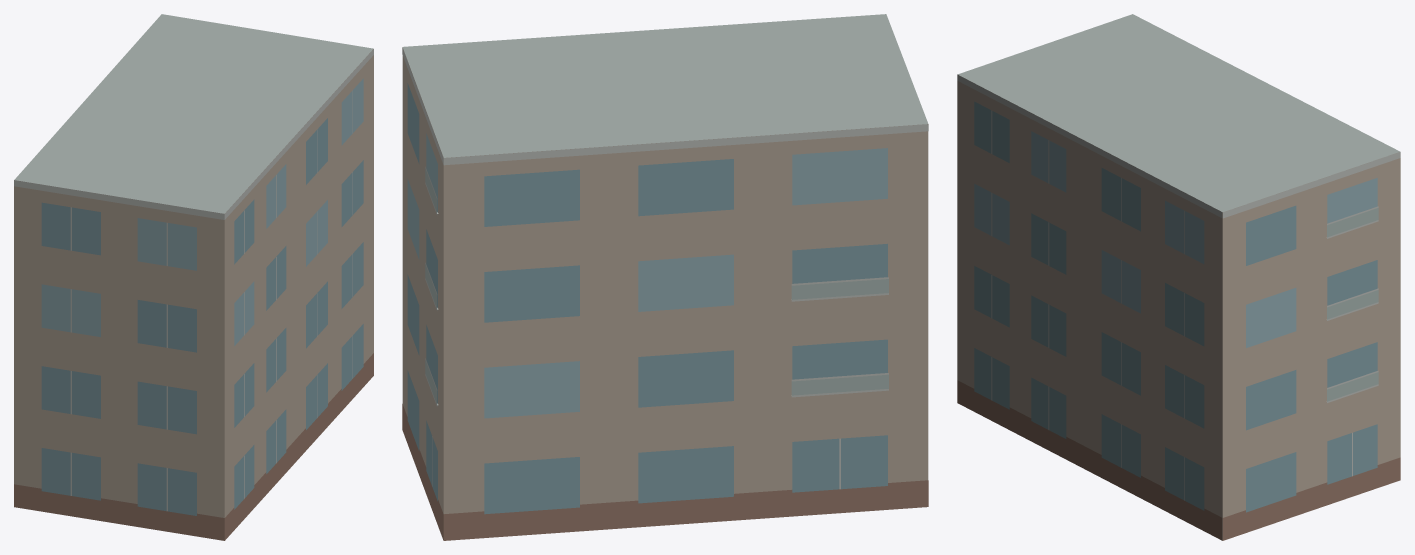
Rendered from survey-upis-32741719.glb.
3 renders of one model, left to right at view 1: azimuth 30°, elevation 25°; view 2: azimuth 150°, elevation 25°; view 3: azimuth 270°, elevation 25°, orthographic. The views are drawn at different scales.
Visible parts, largest first — view 1: survey-upis-32741719.tmp; view 2: survey-upis-32741719.tmp; view 3: survey-upis-32741719.tmp.
Boxes of the visible parts, left/top/right/bottom form: survey-upis-32741719.tmp: left=14, top=14, right=373, bottom=540; survey-upis-32741719.tmp: left=402, top=14, right=928, bottom=540; survey-upis-32741719.tmp: left=957, top=14, right=1400, bottom=540.
Size of the model in its own units: 16.58 by 12.8 by 15.65.
